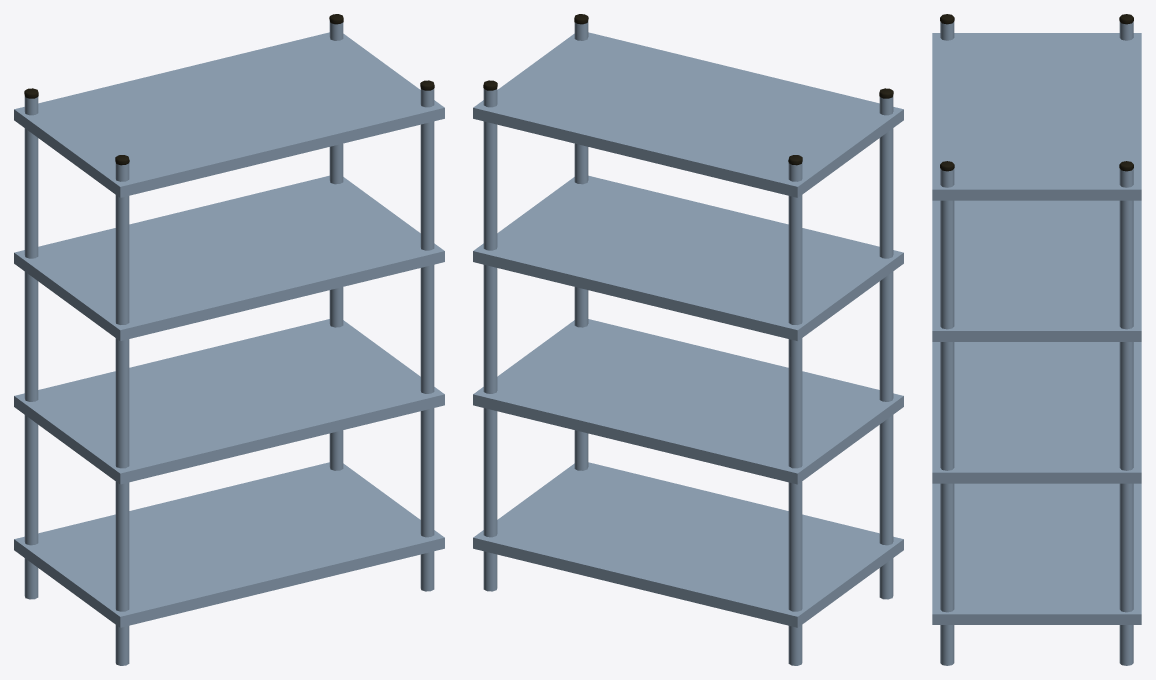
The model's file is 8_storage rack.fbx.
3 renders of one model, left to right at view 1: azimuth 30°, elevation 25°; view 2: azimuth 150°, elevation 25°; view 3: azimuth 270°, elevation 25°, orthographic.
Parts seen in each view (by area): view 1: 8_storage rack; view 2: 8_storage rack; view 3: 8_storage rack.
Part boxes in pixels (x1,y1,x2,y2): 8_storage rack: (14, 14, 444, 665); 8_storage rack: (473, 14, 903, 665); 8_storage rack: (932, 14, 1141, 665).
Bounding box in the file's own units: 141 × 210 × 80.
